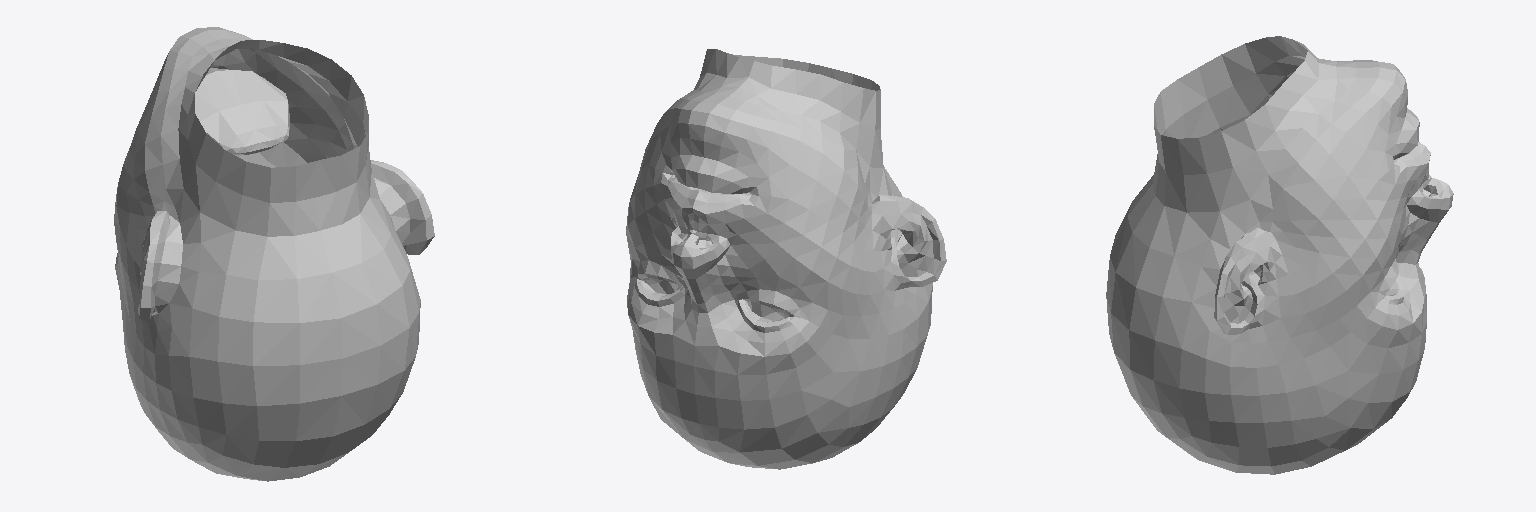
Rendered from occluder.obj.
The picture shows the model from 3 angles: view 1: azimuth 30°, elevation 25°; view 2: azimuth 150°, elevation 25°; view 3: azimuth 270°, elevation 25°; orthographic projection.
Parts seen in each view (by area): view 1: occluder_Group60300; view 2: occluder_Group60300; view 3: occluder_Group60300.
Part boxes in pixels (x1,y1,x2,y2): occluder_Group60300: (114, 27, 434, 481); occluder_Group60300: (626, 49, 946, 469); occluder_Group60300: (1106, 36, 1453, 474).
Size of the model in its own units: 205 by 274 by 210.